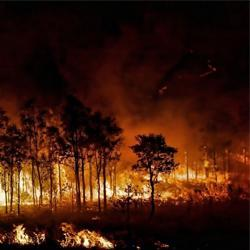fire: (68, 229, 111, 246), (11, 226, 44, 244), (16, 174, 41, 195), (91, 184, 119, 199)
